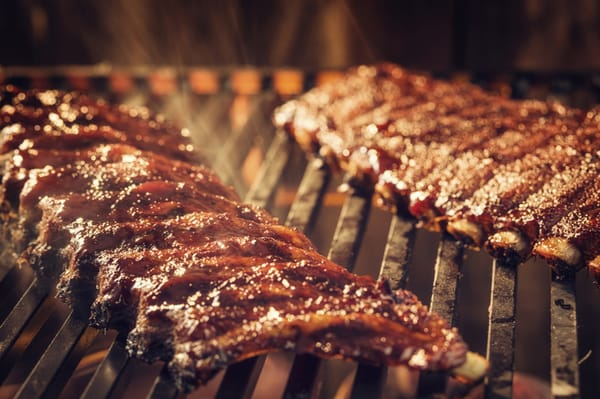sushi: (273, 62, 600, 276)
